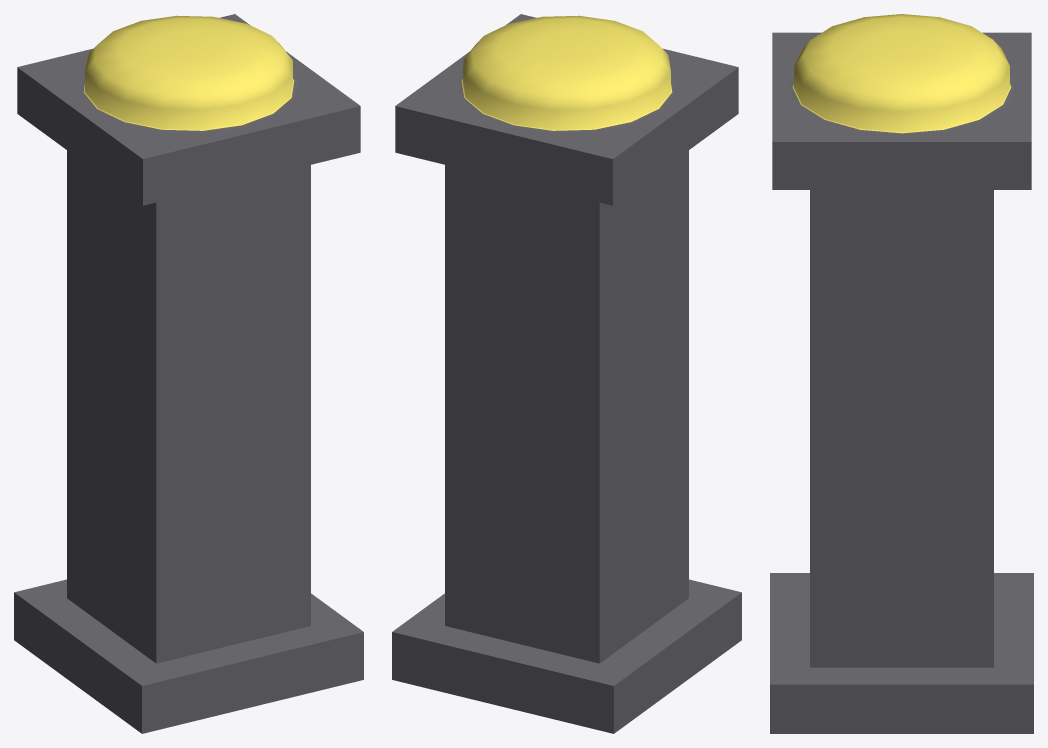
File: button2.fbx
3 views of the same model, side by side, from view 1: azimuth 30°, elevation 25°; view 2: azimuth 150°, elevation 25°; view 3: azimuth 270°, elevation 25° (orthographic). The views are drawn at different scales.
Visible parts, largest first — view 1: Cube.001; view 2: Cube.001; view 3: Cube.001.
Part boxes in pixels (x1,y1,x2,y2): Cube.001: (14,14,363,733); Cube.001: (392,14,741,733); Cube.001: (770,14,1033,733).
Bounding box in the file's own units: 108 × 286 × 108.
